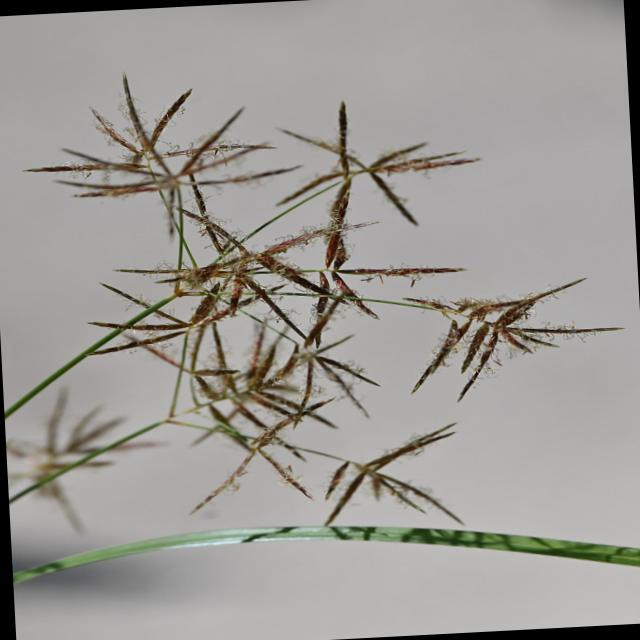Lolium: (120, 297, 404, 515), (246, 72, 494, 238), (382, 252, 626, 403), (36, 60, 294, 202), (294, 419, 498, 539)
cyperus: (36, 44, 634, 550), (5, 384, 150, 518)
